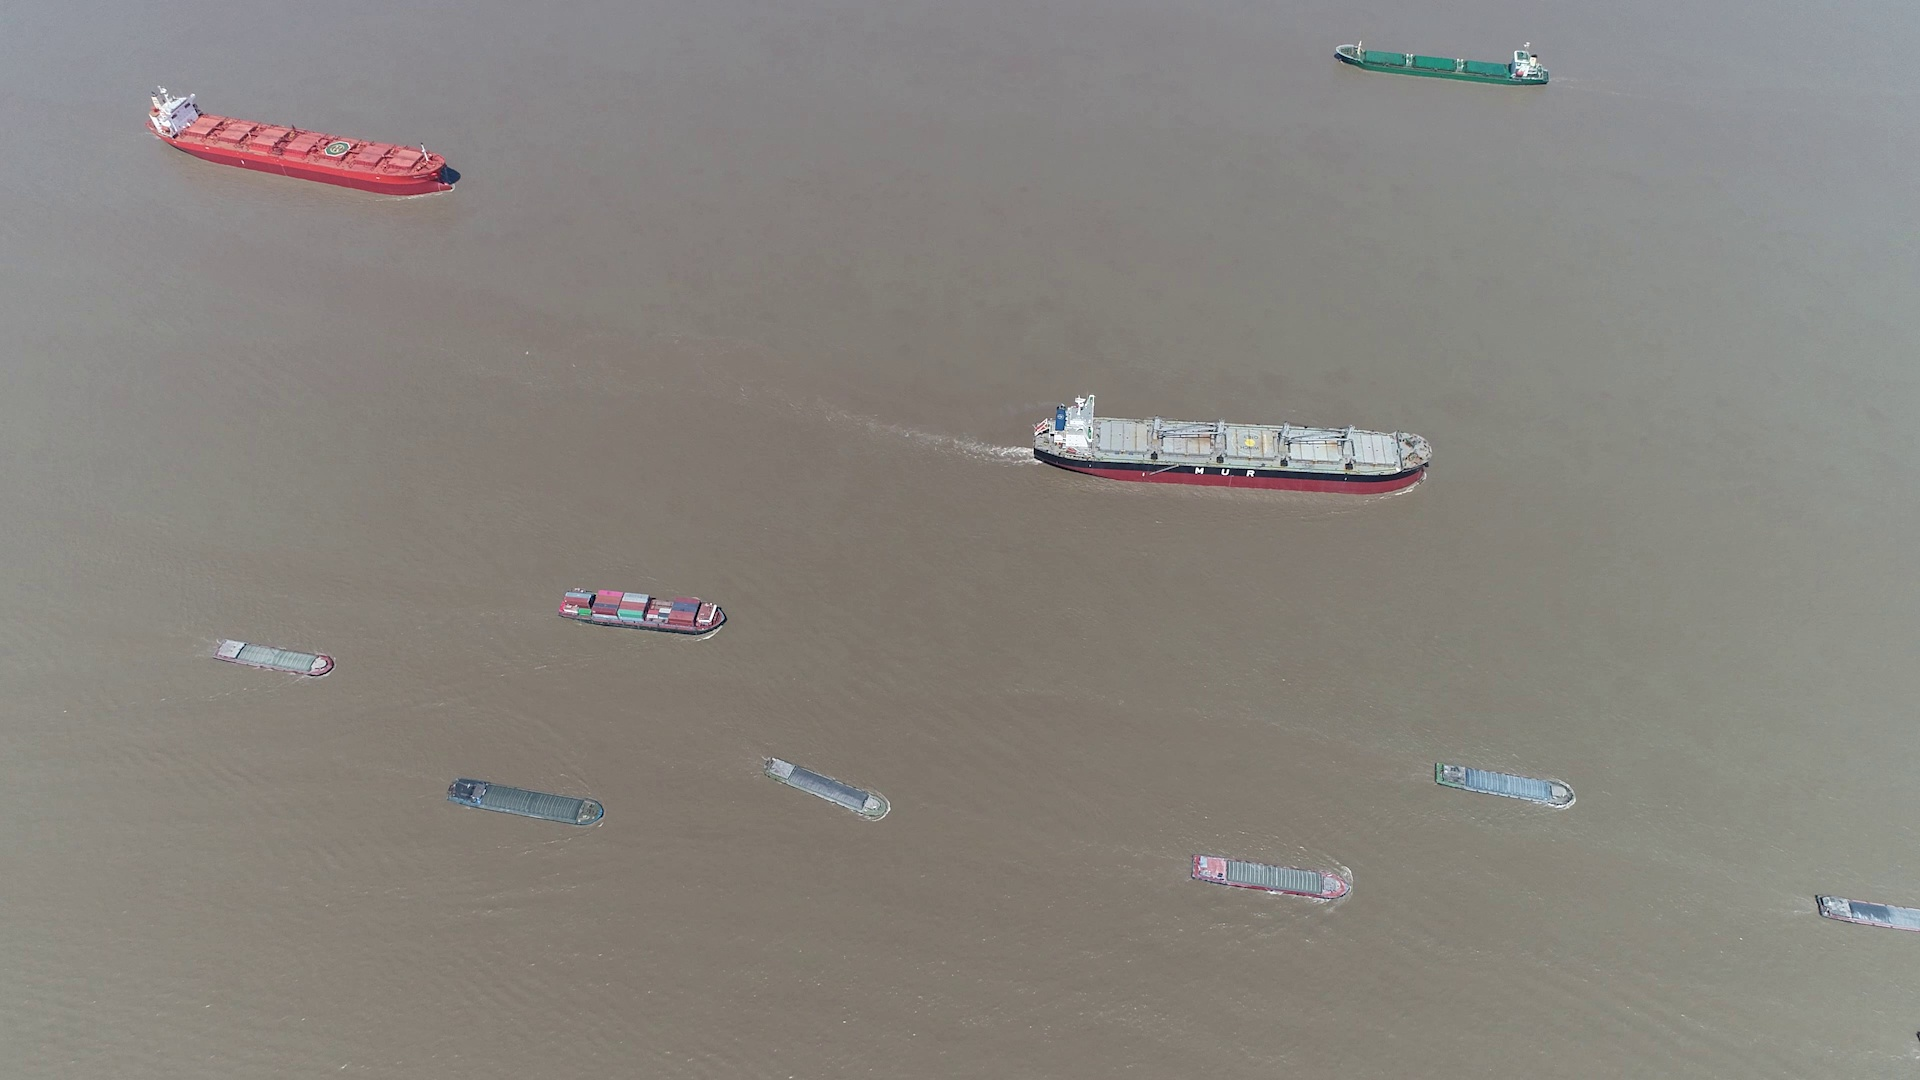ship: (1033, 401, 1431, 495), (149, 86, 458, 195), (1332, 40, 1552, 88), (446, 777, 607, 828), (766, 757, 893, 822), (556, 589, 727, 636), (1192, 856, 1352, 901), (1433, 764, 1575, 810), (211, 640, 332, 676), (1812, 893, 1920, 932)
